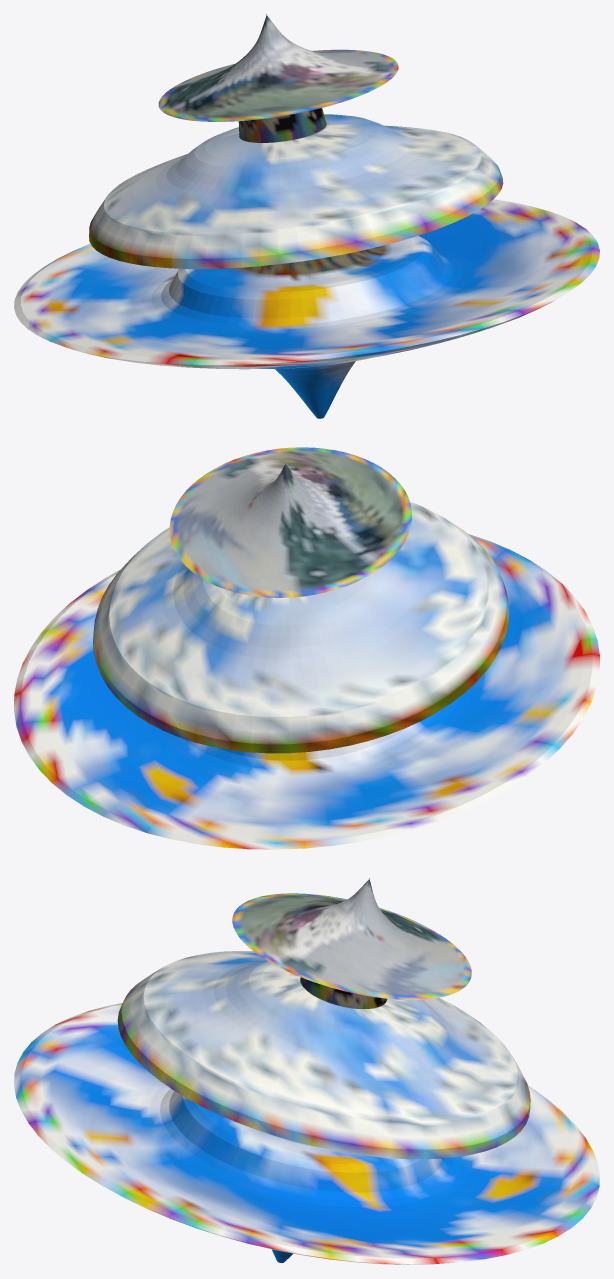
File: pointedlights.glb
3 views of the same model, one above another, from view 1: azimuth 30°, elevation 25°; view 2: azimuth 150°, elevation 25°; view 3: azimuth 270°, elevation 25° (orthographic).
Visible parts, largest first — view 1: Lathe 4, Lathe 3, Lathe, Lathe.001; view 2: Lathe 4, Lathe 3, Lathe; view 3: Lathe 4, Lathe 3, Lathe, Lathe.001.
Part boxes in pixels (x1=…): Lathe 4: x1=14, y1=199, x2=599, y2=418; Lathe 3: x1=89, y1=114, x2=503, y2=268; Lathe: x1=158, y1=14, x2=398, y2=121; Lathe.001: x1=238, y1=108, x2=326, y2=142; Lathe 4: x1=14, y1=534, x2=599, y2=849; Lathe 3: x1=93, y1=501, x2=509, y2=753; Lathe: x1=169, y1=447, x2=411, y2=597; Lathe 4: x1=14, y1=1003, x2=599, y2=1264; Lathe 3: x1=117, y1=951, x2=530, y2=1159; Lathe: x1=232, y1=878, x2=471, y2=999; Lathe.001: x1=300, y1=977, x2=387, y2=1009.
Size of the model in its own units: 3.14 by 2.2 by 3.09.
